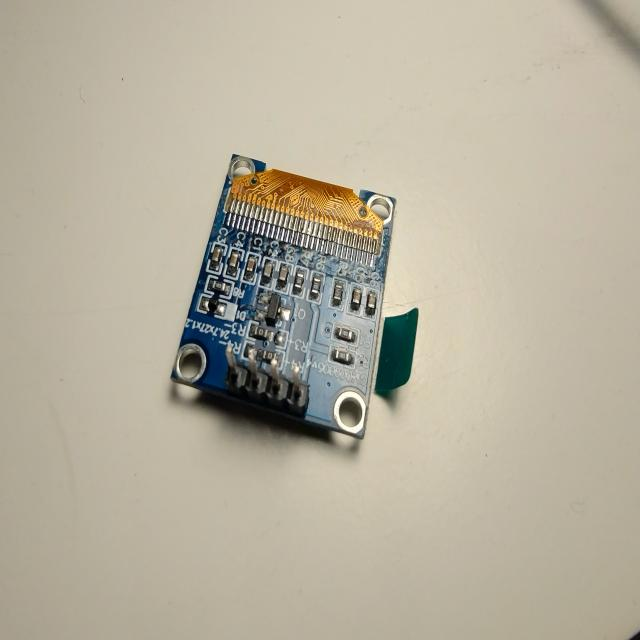oled: (163, 140, 424, 460)
